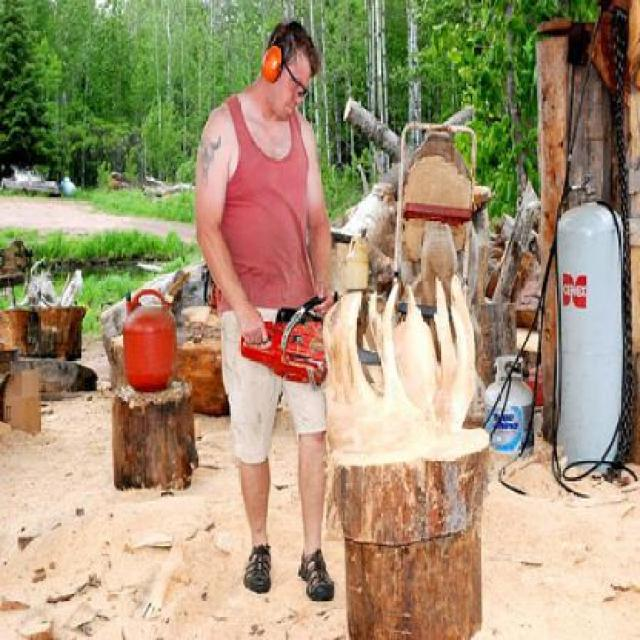Chainsaw: (237, 295, 329, 391)
